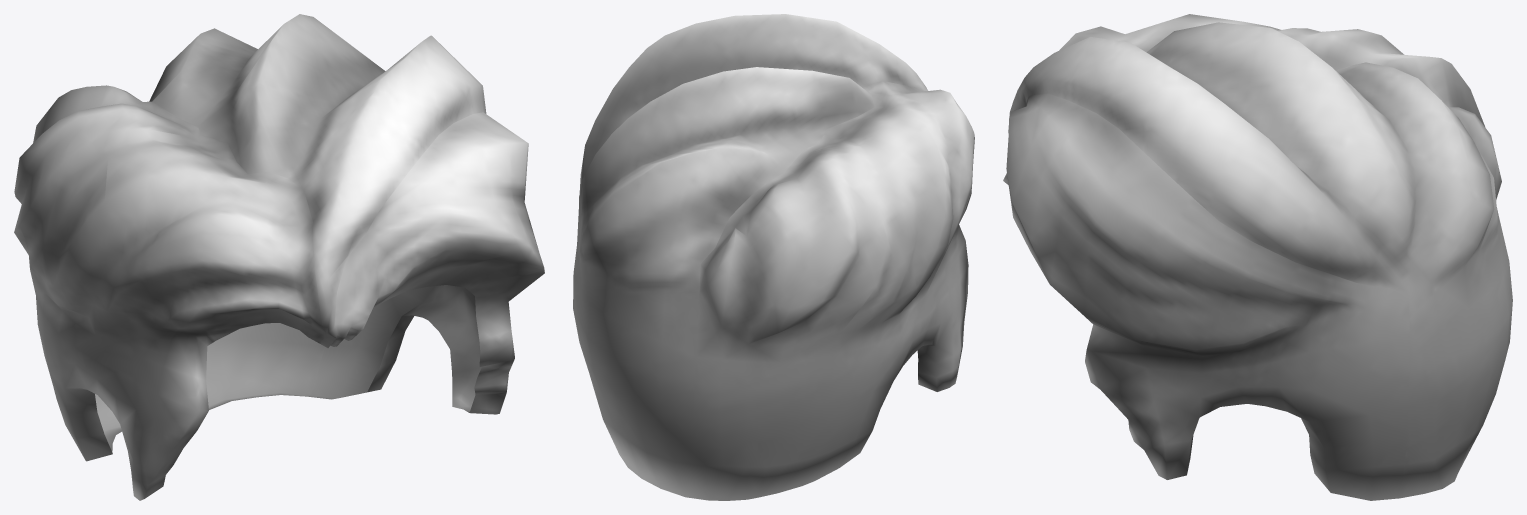
File: hair_simpleparted.glb
3 views of the same model, side by side, from view 1: azimuth 30°, elevation 25°; view 2: azimuth 150°, elevation 25°; view 3: azimuth 270°, elevation 25° (orthographic). The views are drawn at different scales.
Parts seen in each view (by area): view 1: Hair_SimpleParted; view 2: Hair_SimpleParted; view 3: Hair_SimpleParted.
Part boxes in pixels (x1,y1,x2,y2): Hair_SimpleParted: [14, 14, 544, 500]; Hair_SimpleParted: [573, 14, 974, 500]; Hair_SimpleParted: [1003, 14, 1512, 500].
Bounding box in the file's own units: 0.1754 × 0.1792 × 0.1869.
1 material, 1 textured.
